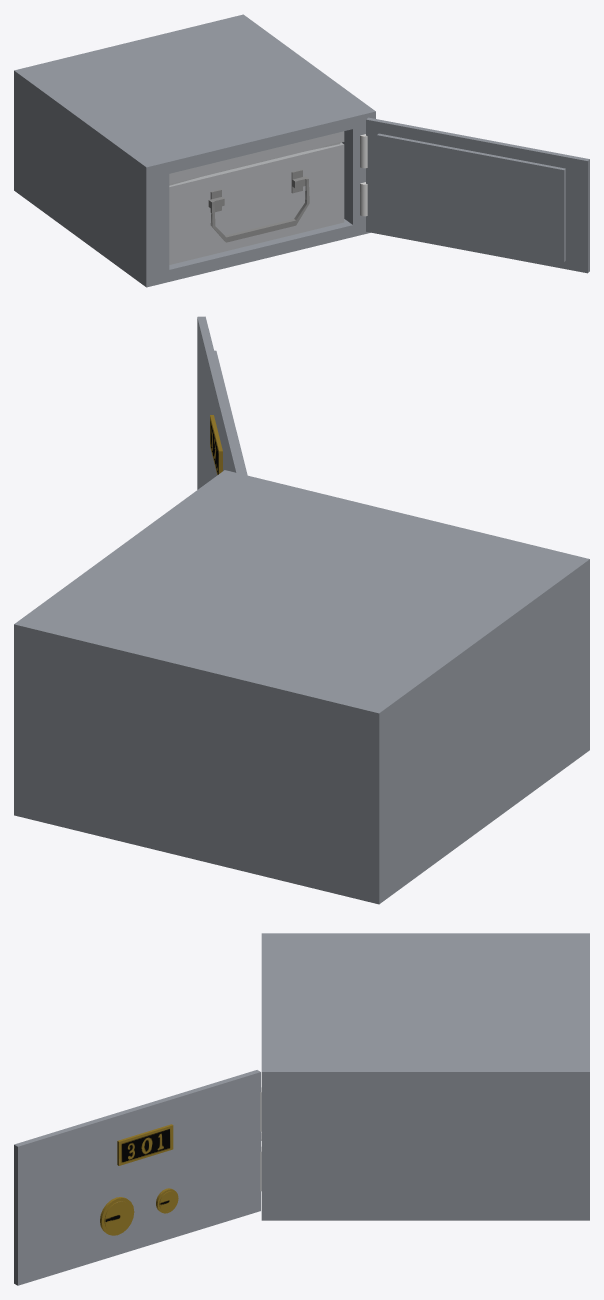
The model's file is Open_Wall_Locker.fbx.
3 renders of one model, top to bottom at view 1: azimuth 30°, elevation 25°; view 2: azimuth 150°, elevation 25°; view 3: azimuth 270°, elevation 25°, orthographic. The views are drawn at different scales.
Visible parts, largest first — view 1: Case, Door, Safety_Box_Close; view 2: Case, Door; view 3: Case, Door.
Boxes of the visible parts, x1,y1,x2,y2 form: Case: (14,14,375,287); Door: (360,117,589,273); Safety_Box_Close: (169,131,344,264); Case: (14,470,589,904); Door: (197,316,247,489); Case: (261,933,589,1220); Door: (14,1070,261,1285).
Size of the model in its own units: 0.752 by 0.25 by 0.877.
Materials: 3 (3 with a texture image).
